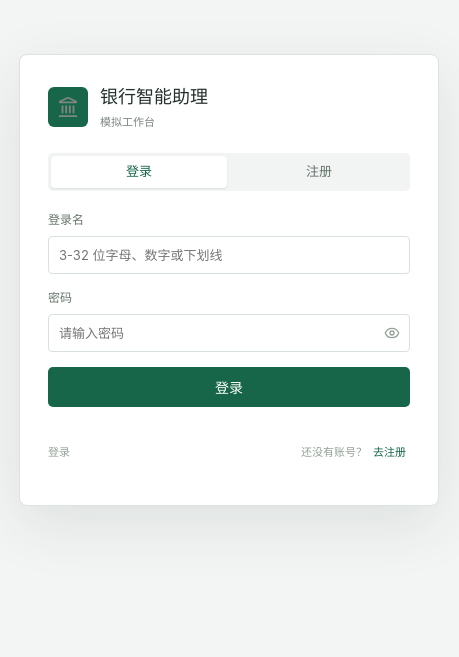
it: 注册表单 › 注册成功后回到登录页，并留下刚才的登录名
The width and height of the screenshot is (459, 657).
Click the tab "注册". click: {"x": 319, "y": 172}
box: [231,156,407,188]
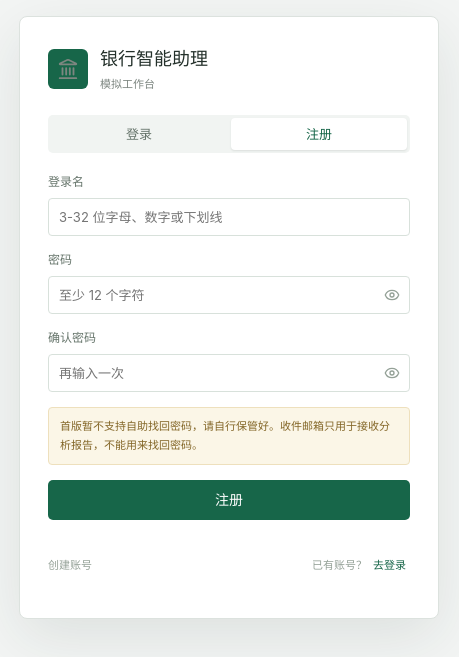
Type "cghry" into the field named "login_name". click: {"x": 229, "y": 217}
box: [48,198,410,236]
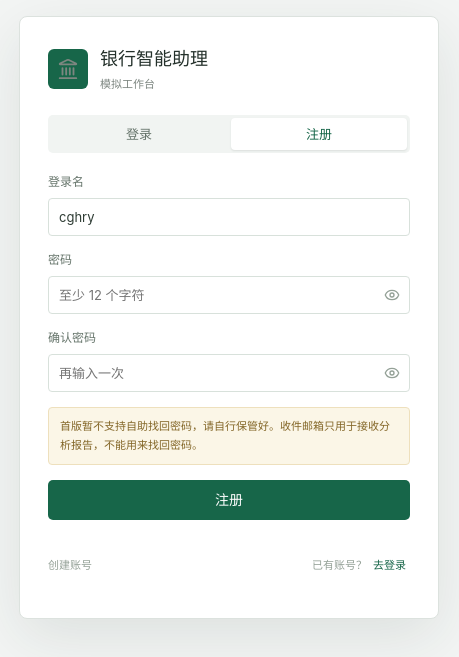
Type "a-long-enough-password" into the password field named "password". click: {"x": 229, "y": 295}
box: [48,276,410,314]
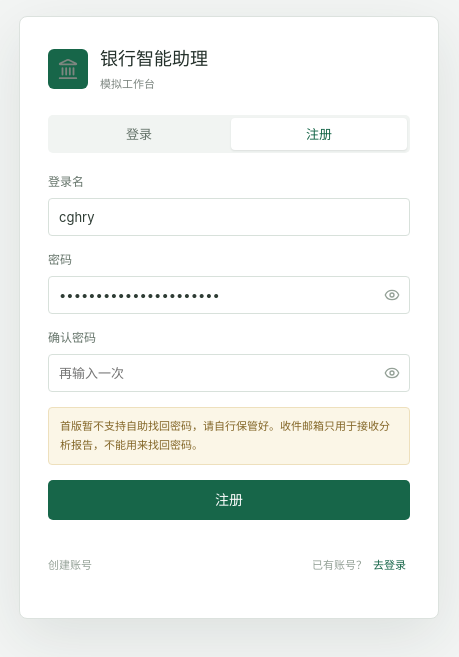
Type "a-long-enough-password" into the password field named "confirm_password". click: {"x": 229, "y": 373}
box: [48,354,410,392]
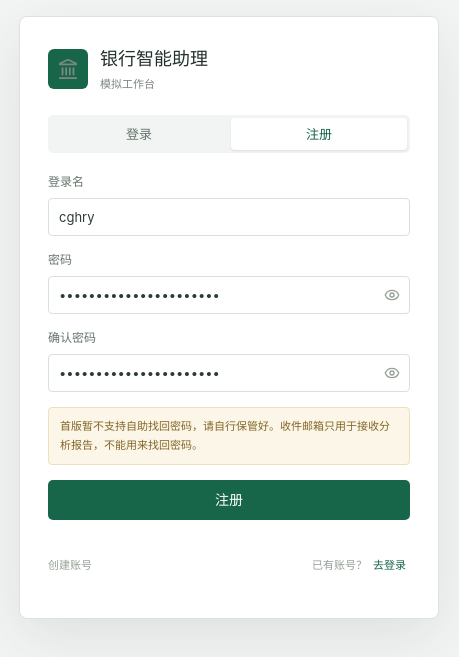
Submit the form, box [48,173,410,520]
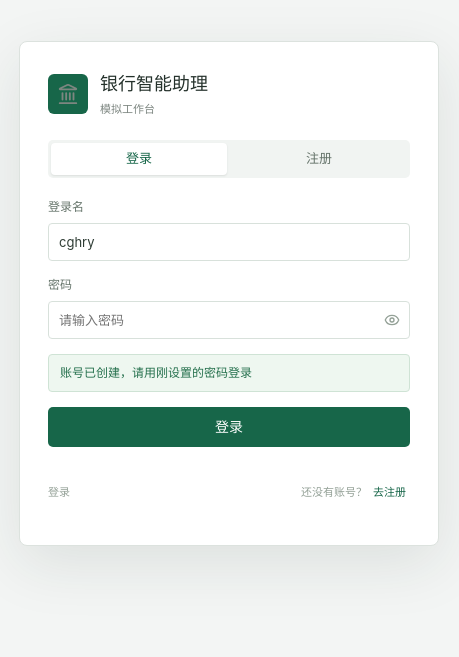
Expected: the message with class "success" shows "账号已创建", [60,365,252,380]
